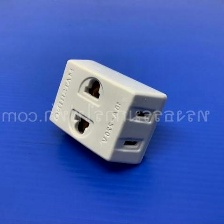three_eye_plug: (45, 56, 170, 168)
